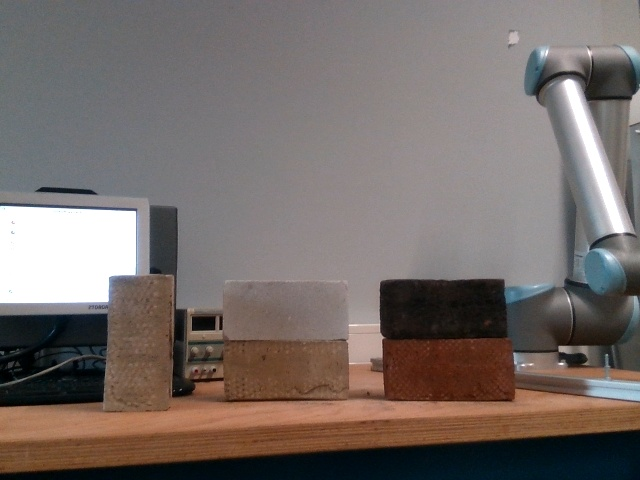brick: (107, 279, 167, 409), (386, 339, 510, 395), (222, 282, 346, 338), (381, 279, 504, 335), (223, 341, 346, 397)
